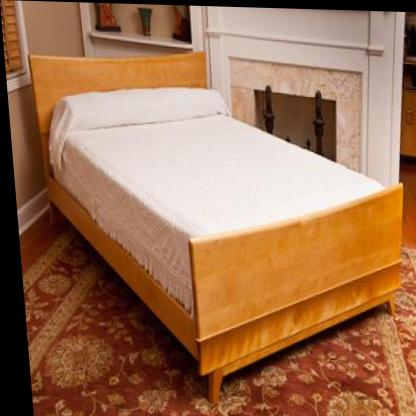Bed: (27, 52, 415, 406)
